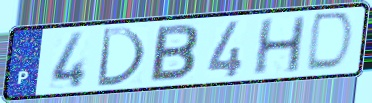4: (48, 30, 88, 90), (205, 19, 245, 79)
B: (147, 23, 201, 84)
D: (93, 26, 148, 89), (303, 10, 357, 74)
H: (250, 14, 308, 77)
